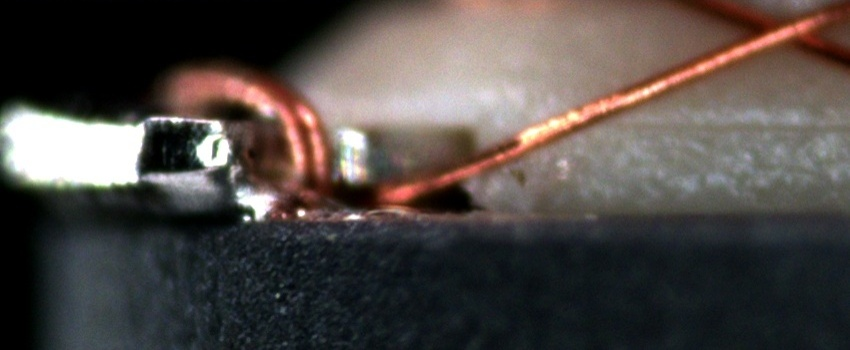CL: (716, 4, 836, 58)
DL: (604, 92, 850, 157)
TE: (160, 59, 340, 203)
